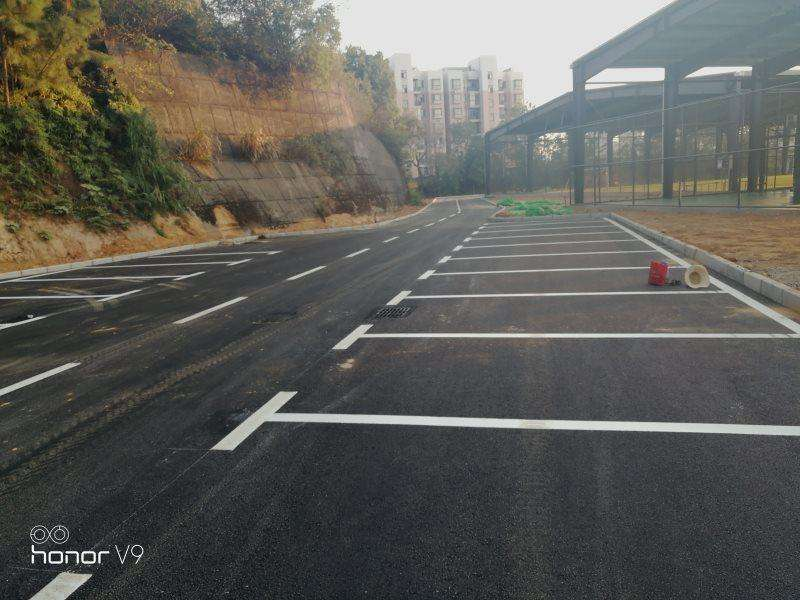slot_nocar: (10, 408, 800, 598), (235, 319, 800, 449), (335, 286, 799, 353), (390, 262, 728, 302), (420, 248, 701, 279), (88, 237, 291, 270), (1, 273, 199, 302), (432, 238, 675, 261), (11, 260, 263, 281), (469, 210, 641, 239)
